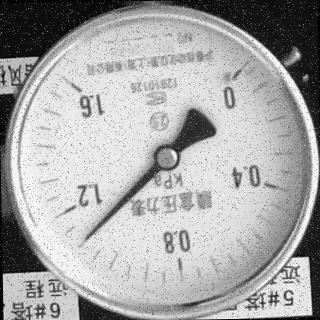gauge: (0, 0, 320, 320), (214, 59, 255, 93), (65, 73, 97, 109), (150, 142, 181, 172), (76, 226, 92, 252)
